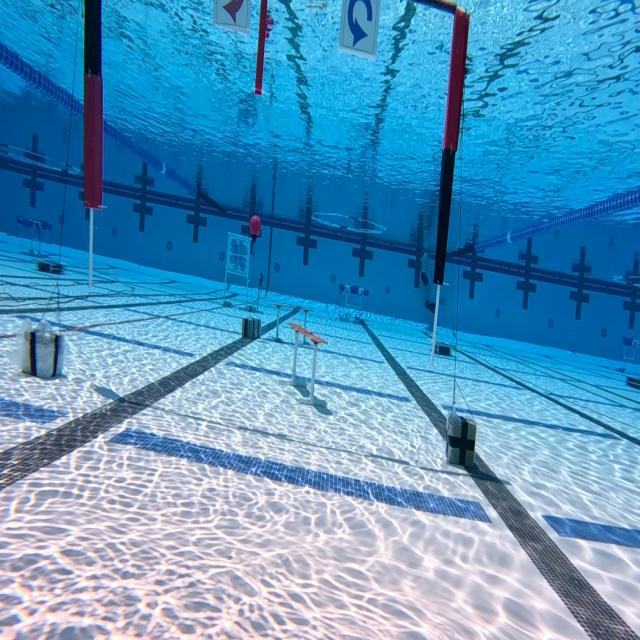blue_side: (344, 2, 376, 54)
red_side: (210, 0, 250, 26)
